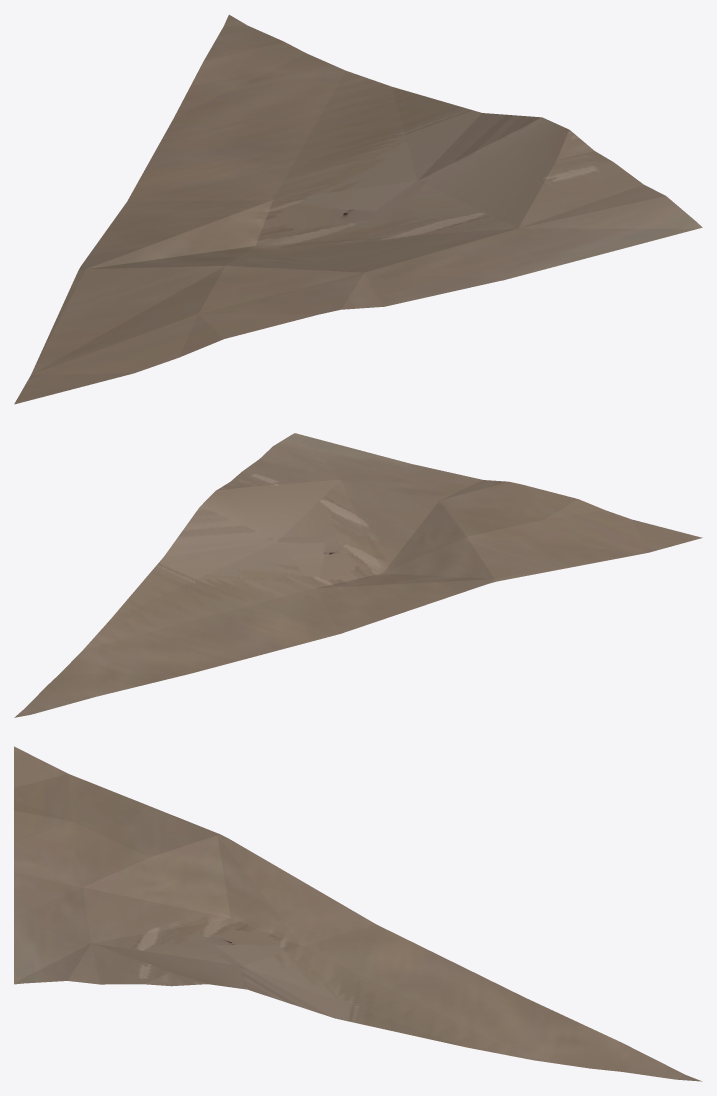
The picture shows the model from 3 angles, top to bottom: view 1: azimuth 30°, elevation 25°; view 2: azimuth 150°, elevation 25°; view 3: azimuth 270°, elevation 25°; orthographic projection. The views are drawn at different scales.
Bounding box in the file's own units: 1.26 × 0.2466 × 1.51.
1 material, 1 textured.
